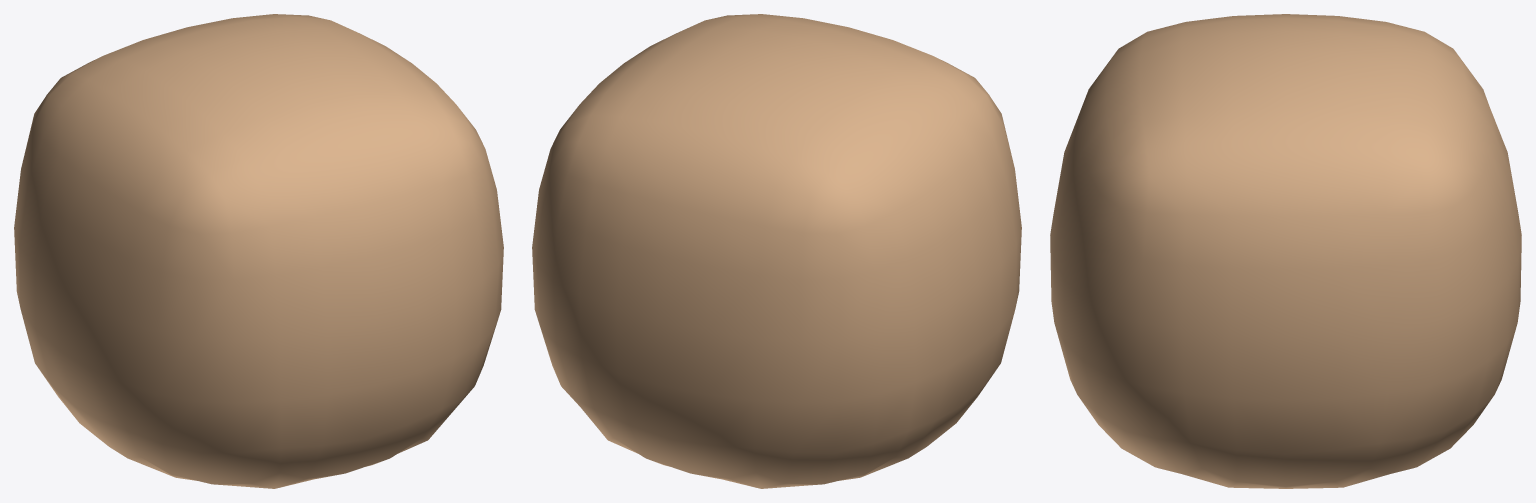
File: Pouf1_2.fbx
3 views of the same model, side by side, from view 1: azimuth 30°, elevation 25°; view 2: azimuth 150°, elevation 25°; view 3: azimuth 270°, elevation 25° (orthographic).
Visible parts, largest first — view 1: pCube2348; view 2: pCube2348; view 3: pCube2348.
Part boxes in pixels (bbox=[...]): pCube2348: bbox=[14, 14, 503, 488]; pCube2348: bbox=[532, 14, 1021, 488]; pCube2348: bbox=[1050, 14, 1521, 488].
Bounding box in the file's own units: 33.21 × 31.87 × 33.2.
